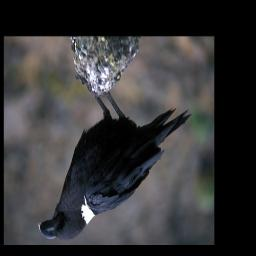Crow: (37, 72, 192, 241)
